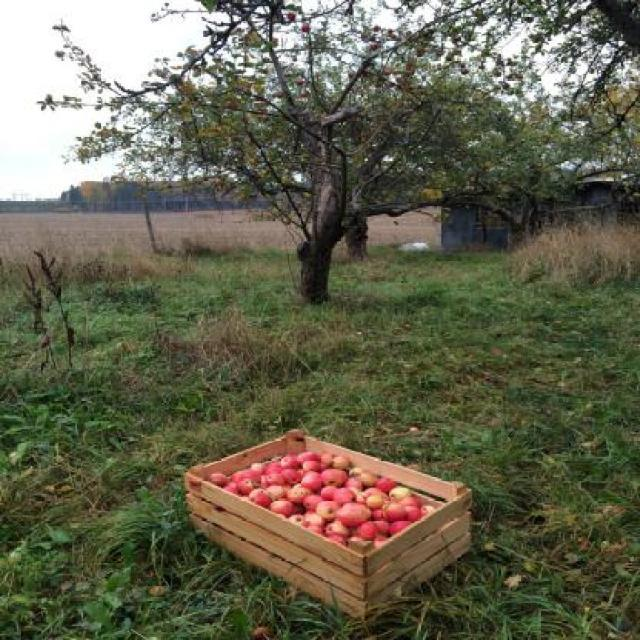Apple pie: (204, 452, 442, 544), (332, 500, 370, 526)
